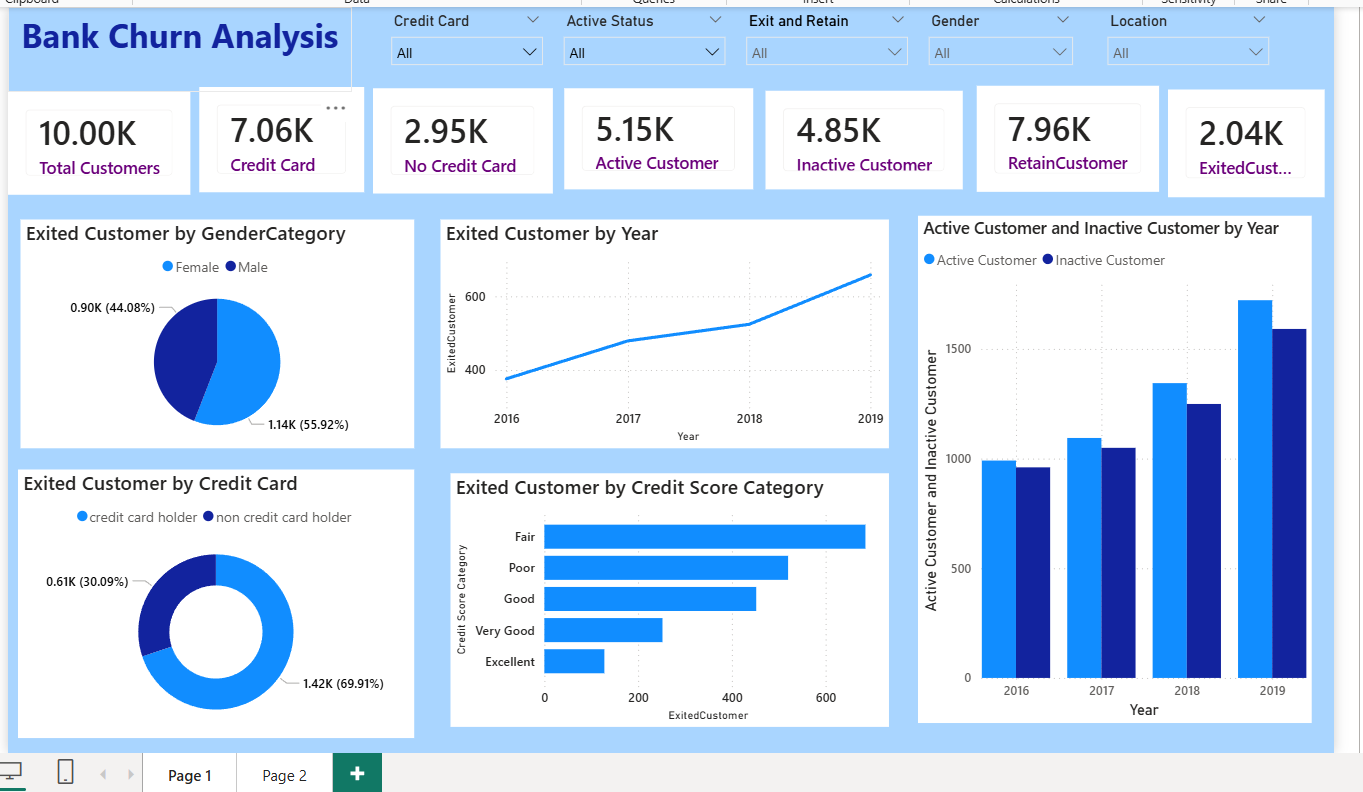

The dashboard page shown, as its layout file describes it:
{"tool":"powerbi","page":{"name":"Page 1","canvas":[1280,720],"ordinal":0},"visuals":[{"type":"cardVisual","title":"Total Customers","fields":{"Data":["Bank_Churn.Total Customers"]},"box":[0,82,176.1,98.9],"z":0},{"type":"cardVisual","fields":{"Data":["Bank_Churn.CreditcardHolders"]},"box":[184.6,77.2,159.3,101.3],"z":1000},{"type":"slicer","fields":{"Values":["Credit card.Category"]},"box":[359.5,0,166.5,76],"z":2000},{"type":"cardVisual","fields":{"Data":["Bank_Churn.NoCreditCardHolders"]},"box":[352.3,78.4,173.7,101.3],"z":3000},{"type":"cardVisual","fields":{"Data":["Bank_Churn.Inactive Customer"]},"box":[731.1,80.8,190.6,95.3],"z":4000},{"type":"cardVisual","fields":{"Data":["Bank_Churn.RetainedCustomer"]},"box":[935,76,176.1,102.5],"z":5000},{"type":"cardVisual","fields":{"Data":["Bank_Churn.ExitedCustomer"]},"box":[1119.6,79.6,150.8,103.8],"z":6000},{"type":"cardVisual","fields":{"Data":["Bank_Churn.Active Customer"]},"box":[536.9,78.4,182.2,97.7],"z":7000},{"type":"slicer","fields":{"Values":["ActiveCustomer.ActiveCategory"]},"box":[526,0,176.1,68.8],"z":8000},{"type":"slicer","fields":{"Values":["Exit Customer.ExitCategory"]},"box":[702.1,0,176.1,72.4],"z":9000},{"type":"slicer","fields":{"Values":["Geography.GeographyLocation"]},"box":[1050.8,0,176.1,90.5],"z":10000},{"type":"slicer","fields":{"Values":["Gender.GenderCategory"]},"box":[878.3,0,159.3,82],"z":11000},{"type":"textbox","box":[0,0,331.8,82],"z":12000},{"type":"pieChart","title":"Exited Customer by GenderCategory","fields":{"Y":["Bank_Churn.ExitedCustomer"],"Category":["Gender.GenderCategory"]},"box":[12.1,205.1,380,220.8],"z":13000},{"type":"donutChart","title":"Exited Customer by Credit Card","fields":{"Y":["Bank_Churn.ExitedCustomer"],"Category":["Credit card.Category"]},"box":[9.7,446.4,382.4,259.4],"z":14000},{"type":"lineChart","title":"Exited Customer by Year","fields":{"Y":["Bank_Churn.ExitedCustomer"],"Category":["Bank_Churn.Bank DOJ.Variation.Date Hierarchy.Year"]},"box":[417.4,205.1,433.1,220.8],"z":15000},{"type":"barChart","title":"Exited Customer by Credit Score Category","fields":{"Y":["Bank_Churn.ExitedCustomer"],"Category":["Bank_Churn.Credit Score Category"]},"box":[427.1,450,423.5,244.9],"z":16000},{"type":"clusteredColumnChart","fields":{"Category":["Bank_Churn.Bank DOJ.Variation.Date Hierarchy.Year"],"Y":["Bank_Churn.Active Customer","Bank_Churn.Inactive Customer"]},"box":[878.3,201.5,380,489.8],"z":17000}]}

Visuals, with their boxes on the page's 1280x720 design canvas (x1, y1, x2, y2). These are canvas units, not pixel positions in the 1363x792 screenshot, which may show the page scaled, cropped or inside an application window:
"Total Customers" cardVisual: 0/82/176/181
cardVisual - Bank_Churn.CreditcardHolders: 185/77/344/178
slicer - Credit card.Category: 360/0/526/76
cardVisual - Bank_Churn.NoCreditCardHolders: 352/78/526/180
cardVisual - Bank_Churn.Inactive Customer: 731/81/922/176
cardVisual - Bank_Churn.RetainedCustomer: 935/76/1111/178
cardVisual - Bank_Churn.ExitedCustomer: 1120/80/1270/183
cardVisual - Bank_Churn.Active Customer: 537/78/719/176
slicer - ActiveCustomer.ActiveCategory: 526/0/702/69
slicer - Exit Customer.ExitCategory: 702/0/878/72
slicer - Geography.GeographyLocation: 1051/0/1227/90
slicer - Gender.GenderCategory: 878/0/1038/82
textbox: 0/0/332/82
"Exited Customer by GenderCategory" pieChart: 12/205/392/426
"Exited Customer by Credit Card" donutChart: 10/446/392/706
"Exited Customer by Year" lineChart: 417/205/850/426
"Exited Customer by Credit Score Category" barChart: 427/450/851/695
clusteredColumnChart - Bank_Churn.Bank DOJ.Variation.Date Hierarchy.Year x Bank_Churn.Active Customer: 878/202/1258/691
